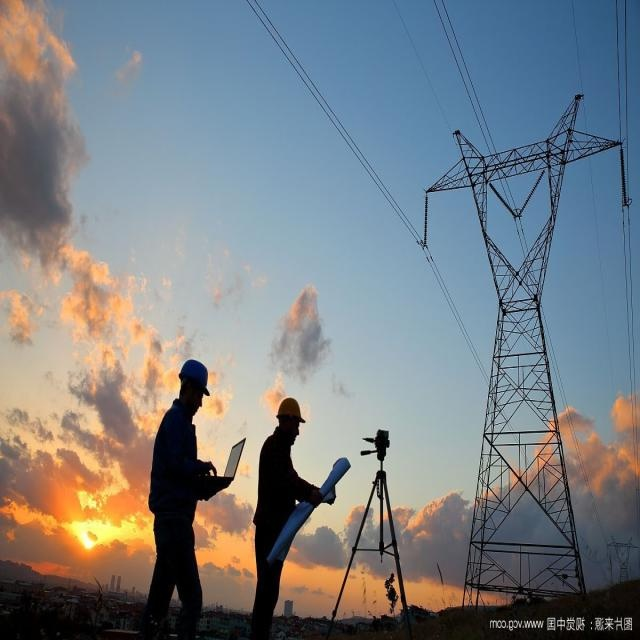Con_Casco: (177, 358, 210, 408), (277, 397, 307, 445)
